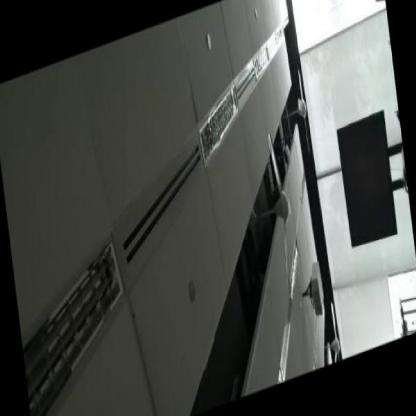light_off: (12, 218, 138, 415), (184, 71, 252, 171)
